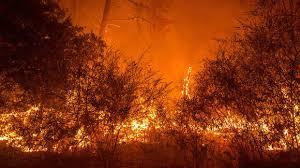fire: (0, 104, 159, 154), (192, 110, 300, 155)
